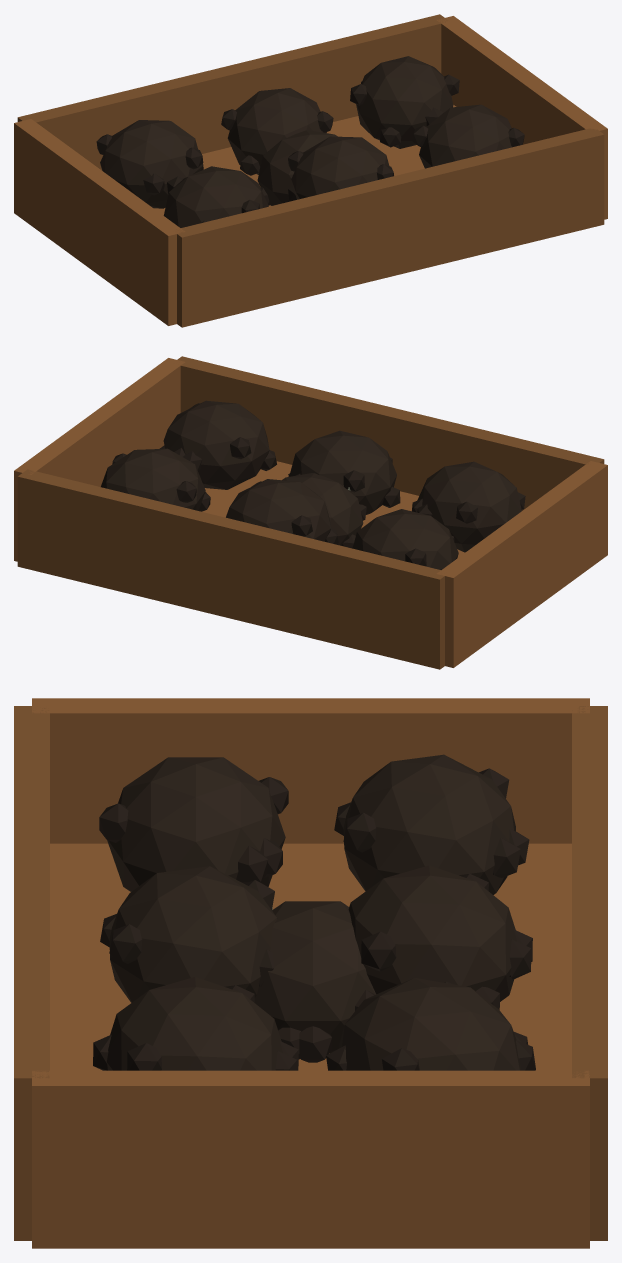
File: Mush_Truffle.fbx
3 views of the same model, one above another, from view 1: azimuth 30°, elevation 25°; view 2: azimuth 150°, elevation 25°; view 3: azimuth 270°, elevation 25° (orthographic). The views are drawn at different scales.
Parts seen in each view (by area): view 1: Mush_Truffle__Stack, Mush_Truffle; view 2: Mush_Truffle__Stack, Mush_Truffle; view 3: Mush_Truffle__Stack, Mush_Truffle.
Part boxes in pixels (x1,y1,x2,y2): Mush_Truffle__Stack: (14,14,607,327); Mush_Truffle: (257,130,337,205); Mush_Truffle__Stack: (14,356,607,669); Mush_Truffle: (282,473,366,548); Mush_Truffle__Stack: (14,698,607,1248); Mush_Truffle: (254,901,376,1062).
Bounding box in the file's own units: 0.2042 × 0.044 × 0.1323.
